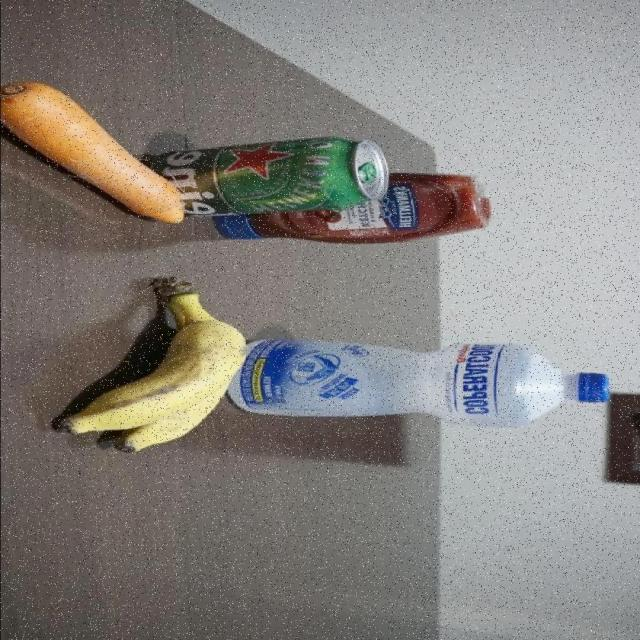AlcoholBottle: (252, 336, 611, 428)
Banana: (35, 272, 247, 456)
BeerCan: (188, 137, 384, 210)
Carrot: (0, 76, 184, 227)
Ketchup: (209, 210, 497, 250)
